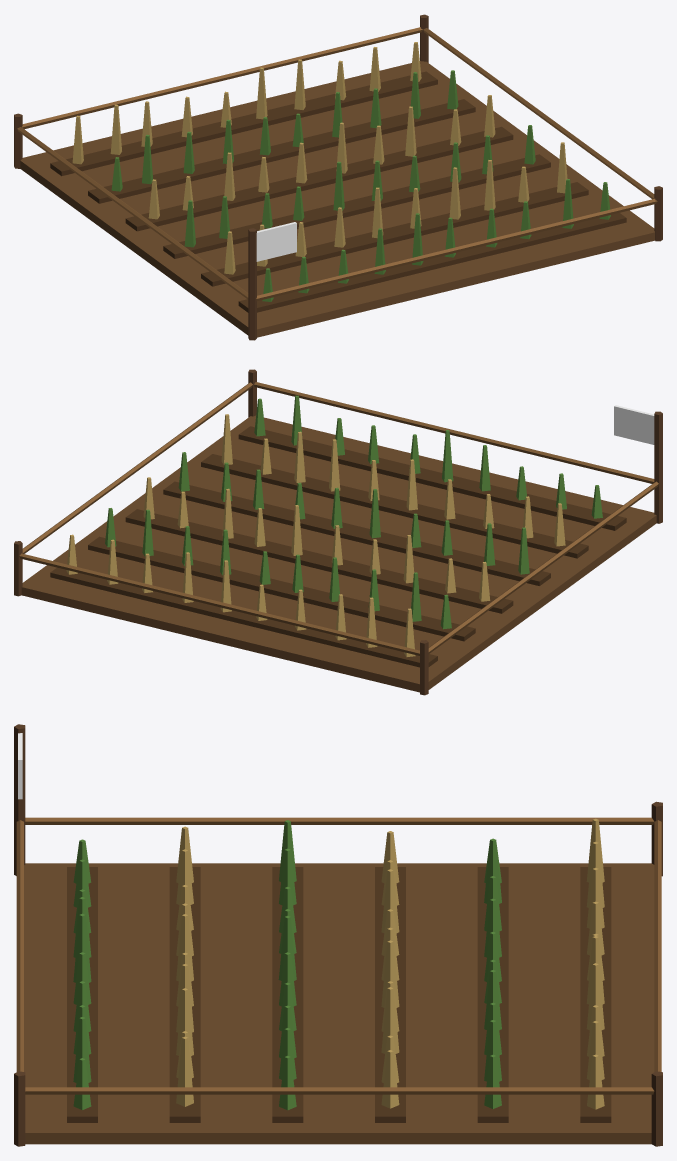
File: farm.glb
3 renders of one model, top to bottom at view 1: azimuth 30°, elevation 25°; view 2: azimuth 150°, elevation 25°; view 3: azimuth 270°, elevation 25°, orthographic. The views are drawn at different scales.
Visible parts, largest first — view 1: part, part.034, part.056, part.045, part.012, part.023, part.001, part.071, part.072, part.073, part.074, part.076 (+1 smaller); view 2: part, part.012, part.034, part.023, part.001, part.045, part.056, part.072, part.071, part.073, part.074, part.076 (+2 smaller); view 3: part, part.074, part.073, part.023, part.045, part.012, part.056, part.034, part.001, part.072, part.071, part.068 (+12 smaller).
Part boxes in pixels (x1,y1,x2,y2): part: (20, 61, 654, 337); part.034: (125, 126, 513, 231); part.056: (50, 71, 437, 176); part.045: (88, 99, 475, 203); part.012: (201, 182, 588, 286); part.023: (163, 154, 550, 258); part.001: (238, 213, 626, 312); part.071: (256, 198, 657, 301); part.072: (22, 27, 422, 129); part.073: (17, 127, 248, 299); part.074: (423, 28, 654, 199); part.076: (256, 222, 296, 261); part: (21, 415, 656, 692); part.012: (201, 454, 588, 558); part.034: (125, 509, 513, 613); part.023: (163, 481, 550, 585); part.001: (238, 426, 626, 530); part.045: (88, 536, 475, 641); part.056: (50, 567, 437, 667); part.072: (19, 553, 419, 655); part.071: (254, 382, 654, 483); part.073: (428, 481, 658, 653); part.074: (22, 382, 252, 553); part.076: (614, 405, 654, 444); part: (24, 863, 654, 1144); part.074: (25, 1087, 654, 1094); part.073: (25, 817, 654, 824); part.023: (272, 867, 303, 1122); part.045: (477, 867, 508, 1122); part.012: (169, 867, 200, 1122); part.056: (580, 867, 611, 1122); part.034: (375, 867, 405, 1122); part.001: (67, 867, 97, 1122); part.072: (654, 820, 661, 1071); part.071: (16, 820, 23, 1071); part.068: (14, 1071, 25, 1146).
Size of the model in its own units: 4.18 by 1.05 by 4.17.
